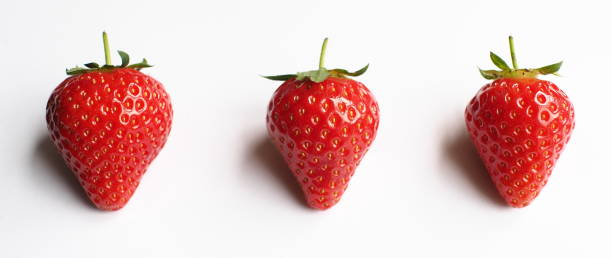Fresa: (44, 58, 180, 216), (263, 64, 383, 216), (461, 68, 579, 214)
